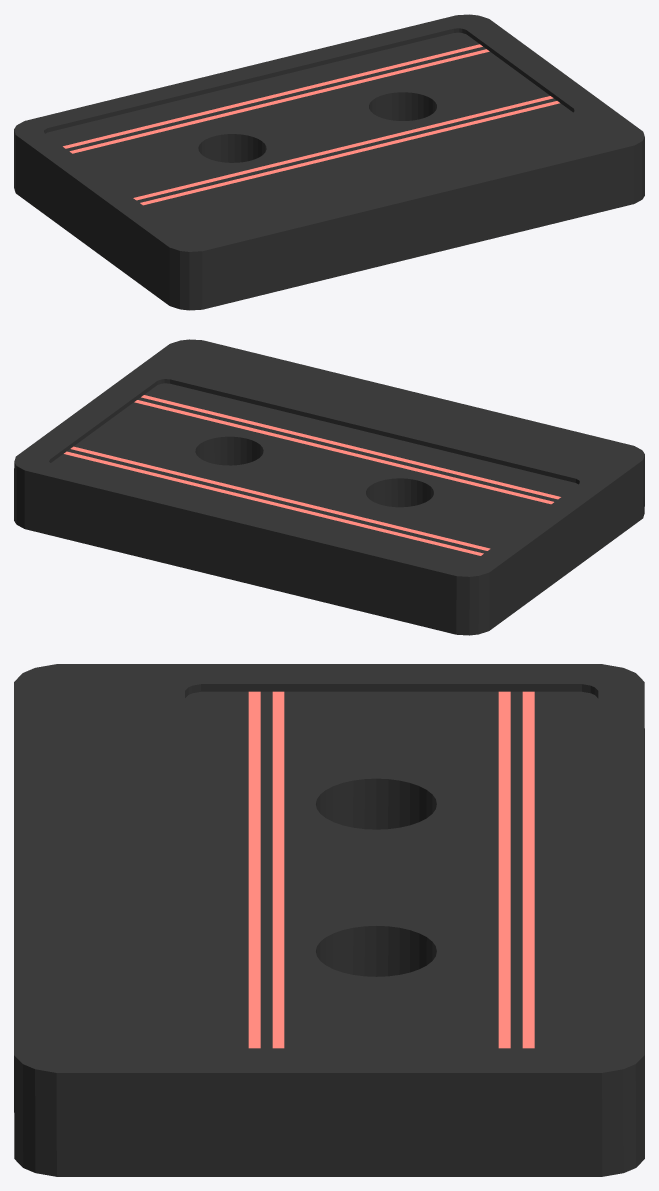
Rendered from VHSTape.fbx.
3 renders of one model, top to bottom at view 1: azimuth 30°, elevation 25°; view 2: azimuth 150°, elevation 25°; view 3: azimuth 270°, elevation 25°, orthographic. The views are drawn at different scales.
Parts seen in each view (by area): view 1: VHS Tape; view 2: VHS Tape; view 3: VHS Tape.
Part boxes in pixels (x1,y1,x2,y2): VHS Tape: (14, 14, 644, 310); VHS Tape: (14, 339, 644, 635); VHS Tape: (14, 664, 644, 1176).
Bounding box in the file's own units: 229 × 27.21 × 149.
